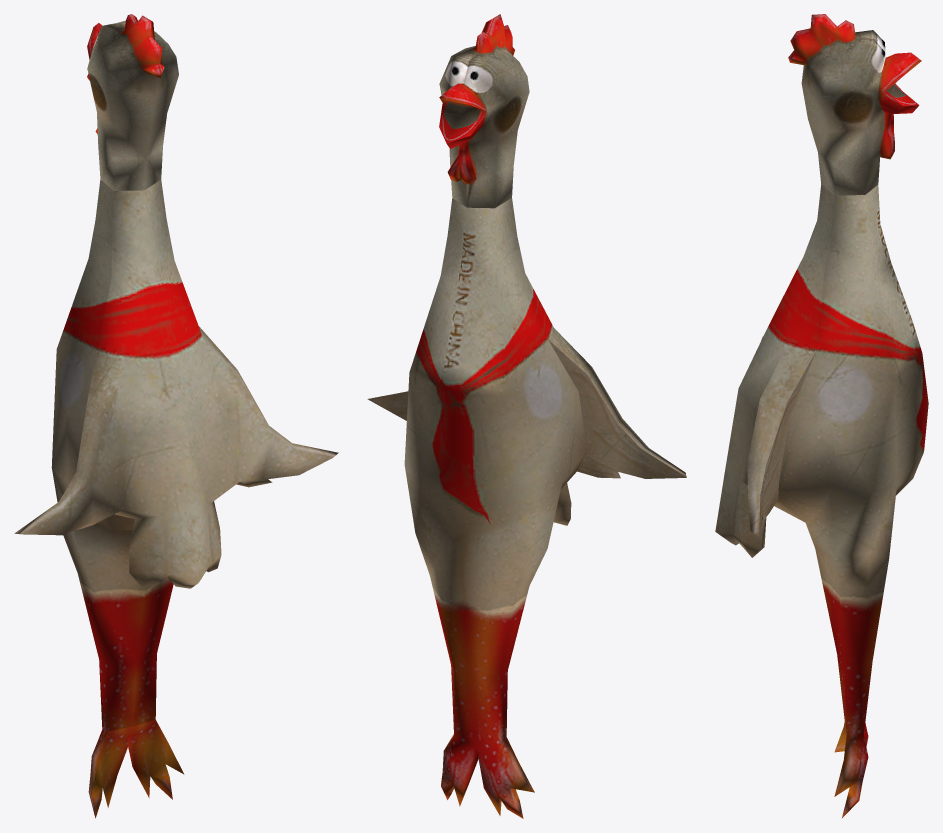
The model's file is Melee_Prop_Screaming_Chicken_Main_(000713).glb.
The picture shows the model from 3 angles, left to right: view 1: azimuth 30°, elevation 25°; view 2: azimuth 150°, elevation 25°; view 3: azimuth 270°, elevation 25°; orthographic projection.
Visible parts, largest first — view 1: CJJ; view 2: CJJ; view 3: CJJ.
Boxes of the visible parts, box(x1,y1,x2,y2) form: CJJ: box(14, 14, 338, 818); CJJ: box(367, 14, 686, 818); CJJ: box(715, 14, 928, 817).
Size of the model in its own units: 0.323 by 0.7593 by 0.1867.
Materials: 1 (1 with a texture image).
